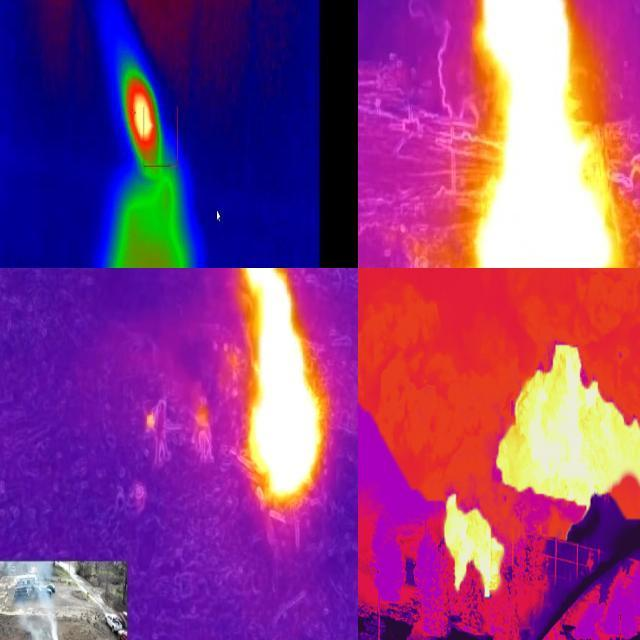fire: (475, 1, 616, 269), (498, 341, 640, 514), (228, 269, 327, 505), (440, 490, 508, 603), (120, 60, 163, 176)
